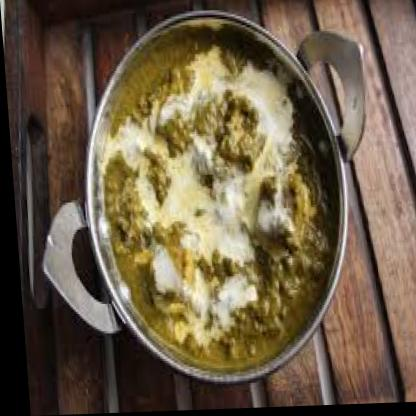palak_paneer: (89, 26, 338, 377)
